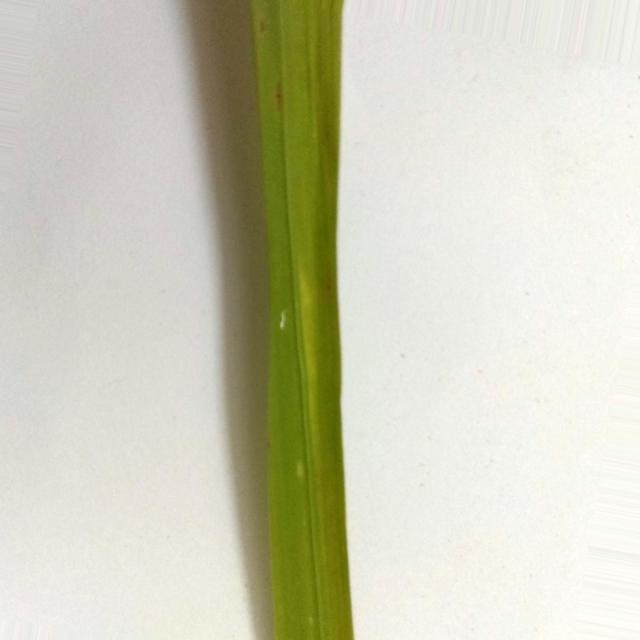Brown_Spot: (259, 6, 280, 35), (274, 81, 282, 112), (274, 84, 282, 111), (266, 0, 274, 4)
